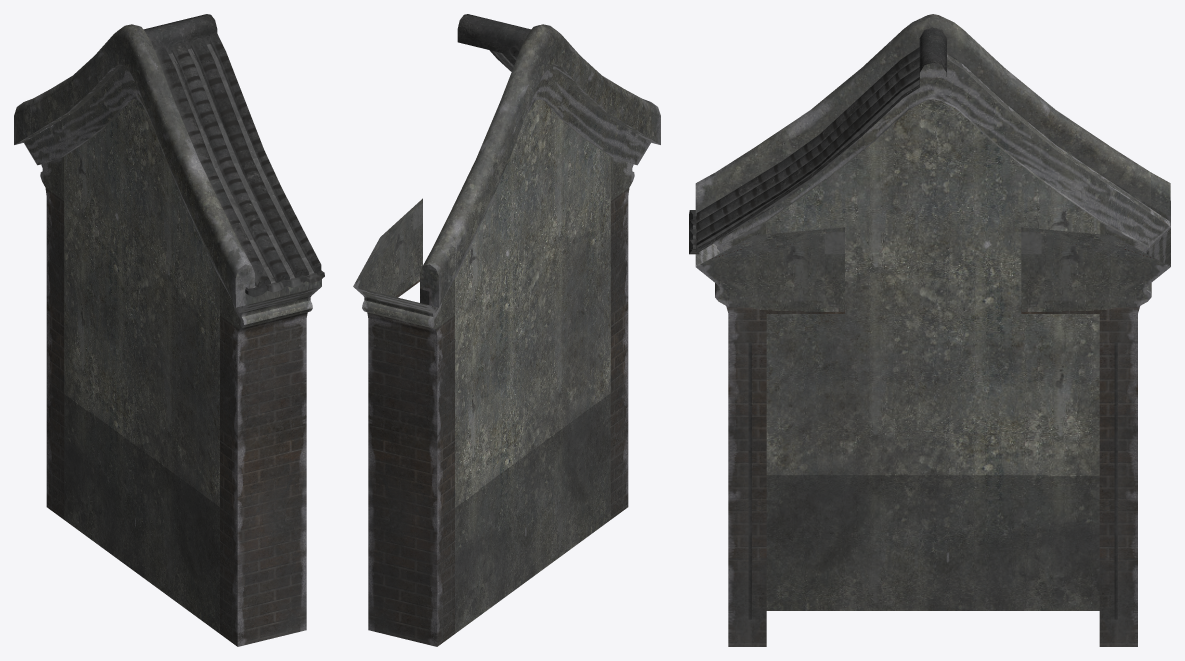
The model's file is hutong_wall_b_end_b.fbx.
The picture shows the model from 3 angles, left to right: view 1: azimuth 30°, elevation 25°; view 2: azimuth 150°, elevation 25°; view 3: azimuth 270°, elevation 25°; orthographic projection. The views are drawn at different scales.
Visible parts, largest first — view 1: hogtong_wall_end_b; view 2: hogtong_wall_end_b; view 3: hogtong_wall_end_b.
Part boxes in pixels (box(x1,y1,x2,y2)): hogtong_wall_end_b: box(14, 14, 324, 646); hogtong_wall_end_b: box(353, 14, 660, 646); hogtong_wall_end_b: box(689, 14, 1170, 646).
Size of the model in its own units: 67.52 by 415 by 306.
Materials: 1 (1 with a texture image).
